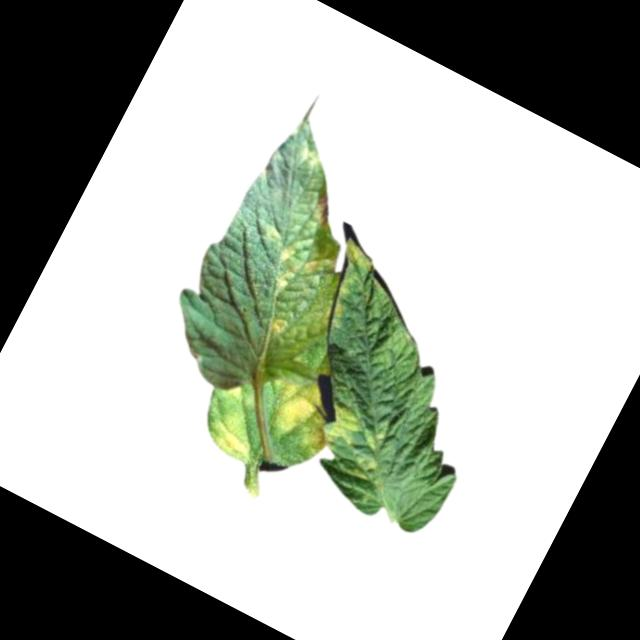Leaf_Mold: (257, 362, 348, 449), (316, 402, 394, 470), (257, 236, 326, 309), (206, 407, 267, 465), (304, 183, 346, 233), (267, 313, 294, 341)
